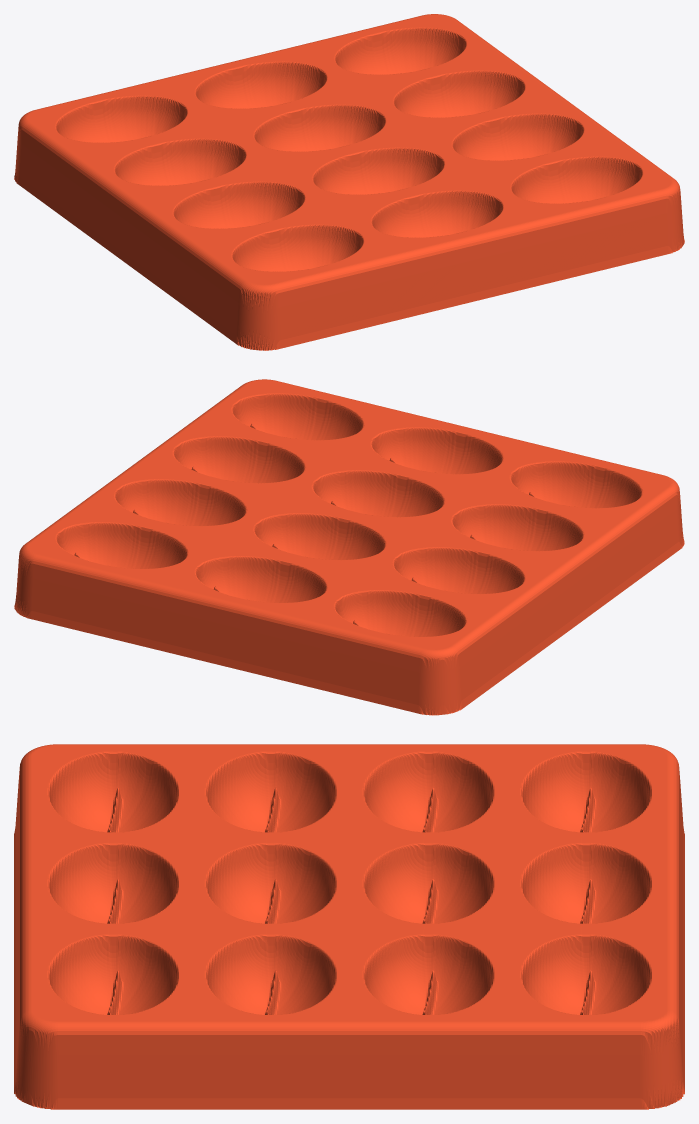
The model's file is mold.glb.
The picture shows the model from 3 angles, top to bottom: view 1: azimuth 30°, elevation 25°; view 2: azimuth 150°, elevation 25°; view 3: azimuth 270°, elevation 25°; orthographic projection. The views are drawn at different scales.
Visible parts, largest first — view 1: geometry_0; view 2: geometry_0; view 3: geometry_0.
Boxes of the visible parts, x1,y1,x2,y2 form: geometry_0: (14,14,684,350); geometry_0: (14,379,684,715); geometry_0: (14,744,684,1109).
Bounding box in the file's own units: 0.141 × 0.0182 × 0.1373.
